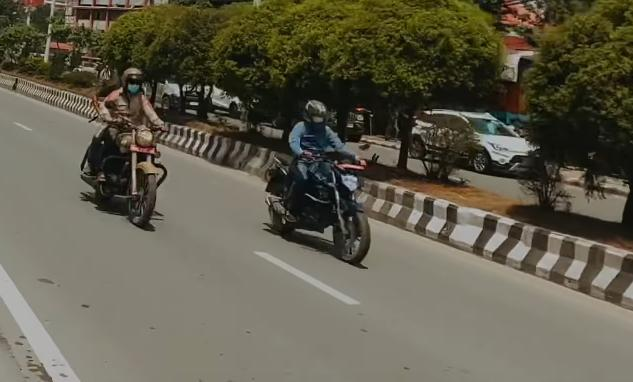bike: (259, 128, 375, 269), (81, 108, 172, 232)
